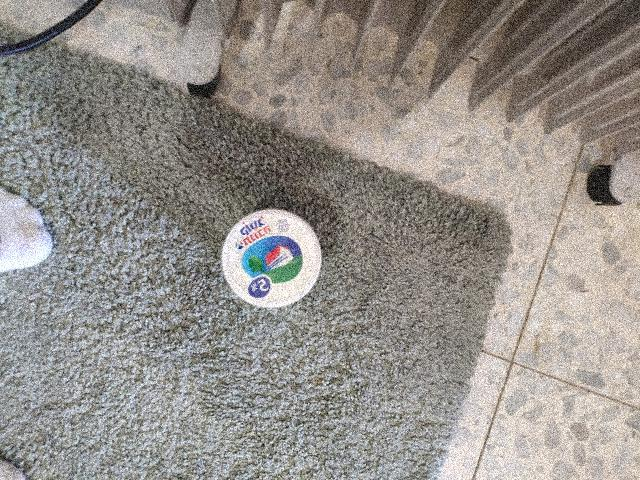cotage: (225, 206, 325, 309)
